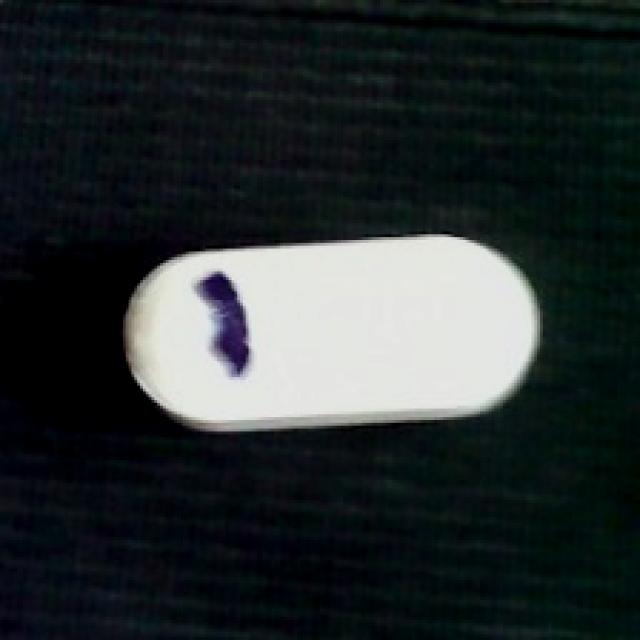defected: (109, 229, 546, 434)
